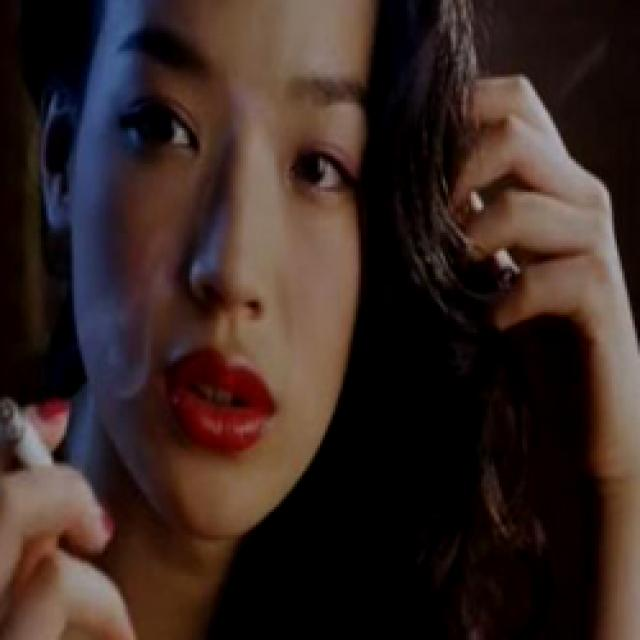Smooking: (0, 397, 69, 472)
